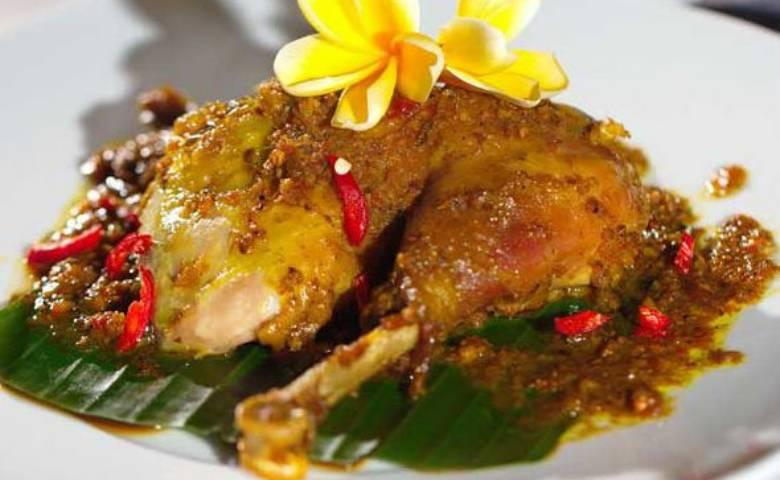ayam_betutu: (137, 83, 652, 480)
